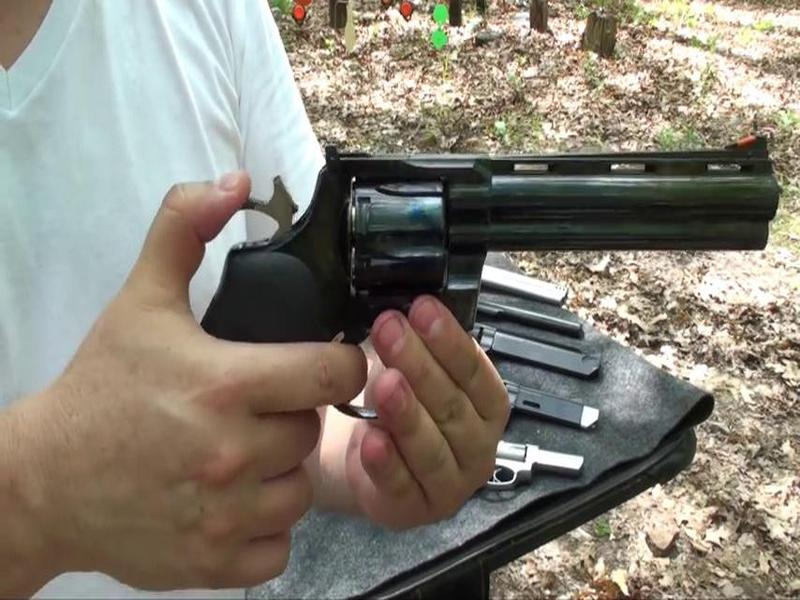Revolver: (185, 111, 784, 351)
